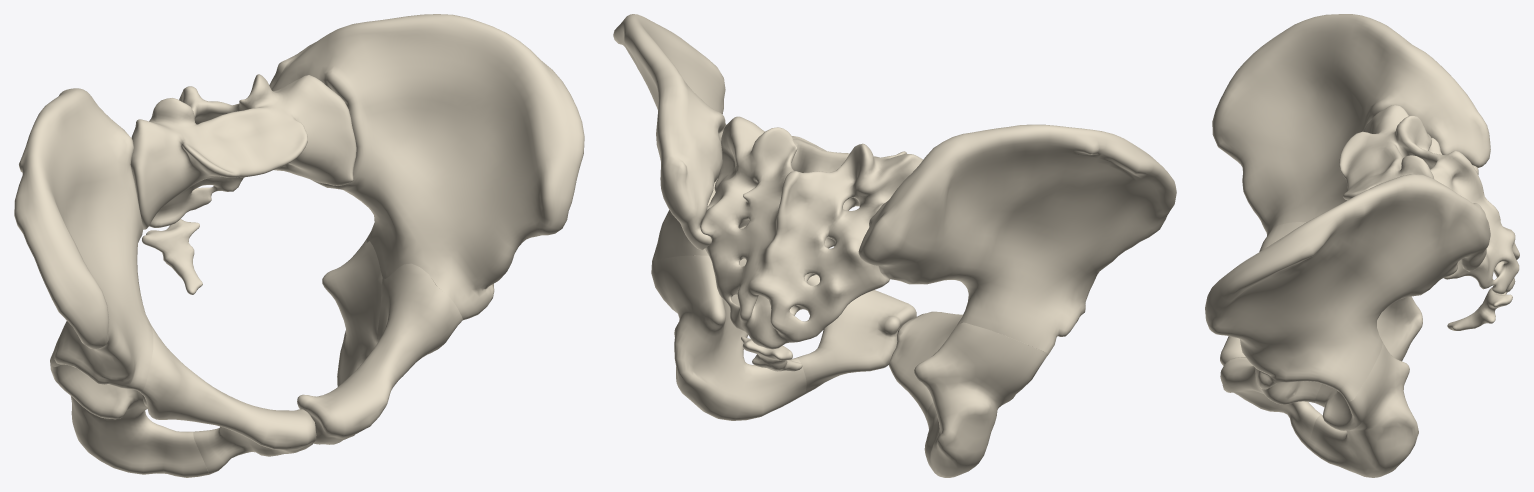
Rendered from pelvis.glb.
3 views of the same model, side by side, from view 1: azimuth 30°, elevation 25°; view 2: azimuth 150°, elevation 25°; view 3: azimuth 270°, elevation 25° (orthographic). The views are drawn at different scales.
Visible parts, largest first — view 1: VH_F_ilium_compact_bone_L, VH_F_ilium_compact_bone_R, VH_F_sacrum, VH_F_pubis_compact_bone_L, VH_F_pubis_compact_bone_R, VH_F_ischium_compact_bone_R, VH_F_ischium_compact_bone_L, VH_F_coccyx; view 2: VH_F_ilium_compact_bone_R, VH_F_sacrum, VH_F_ilium_compact_bone_L, VH_F_ischium_compact_bone_L, VH_F_ischium_compact_bone_R, VH_F_pubis_compact_bone_L, VH_F_pubis_compact_bone_R, VH_F_coccyx; view 3: VH_F_ilium_compact_bone_L, VH_F_ilium_compact_bone_R, VH_F_sacrum, VH_F_ischium_compact_bone_L, VH_F_pubis_compact_bone_L, VH_F_ischium_compact_bone_R, VH_F_coccyx, VH_F_pubis_compact_bone_R.
Part boxes in pixels (bbox=[...]): VH_F_ilium_compact_bone_L: bbox=[269, 14, 584, 320]; VH_F_ilium_compact_bone_R: bbox=[14, 88, 153, 392]; VH_F_sacrum: bbox=[130, 74, 356, 229]; VH_F_pubis_compact_bone_L: bbox=[297, 263, 462, 444]; VH_F_pubis_compact_bone_R: bbox=[140, 325, 316, 474]; VH_F_ischium_compact_bone_R: bbox=[50, 362, 209, 477]; VH_F_ischium_compact_bone_L: bbox=[322, 239, 382, 436]; VH_F_coccyx: bbox=[142, 219, 202, 294]; VH_F_ilium_compact_bone_R: bbox=[858, 124, 1176, 354]; VH_F_sacrum: bbox=[700, 116, 922, 349]; VH_F_ilium_compact_bone_L: bbox=[613, 14, 745, 260]; VH_F_ischium_compact_bone_L: bbox=[651, 255, 806, 420]; VH_F_ischium_compact_bone_R: bbox=[914, 322, 1048, 477]; VH_F_pubis_compact_bone_L: bbox=[740, 258, 916, 393]; VH_F_pubis_compact_bone_R: bbox=[889, 311, 962, 420]; VH_F_coccyx: bbox=[741, 336, 802, 371]; VH_F_ilium_compact_bone_L: bbox=[1205, 174, 1490, 401]; VH_F_ilium_compact_bone_R: bbox=[1212, 14, 1490, 235]; VH_F_sacrum: bbox=[1339, 105, 1519, 294]; VH_F_ischium_compact_bone_L: bbox=[1307, 341, 1418, 477]; VH_F_pubis_compact_bone_L: bbox=[1220, 357, 1322, 447]; VH_F_ischium_compact_bone_R: bbox=[1377, 296, 1422, 361]; VH_F_coccyx: bbox=[1447, 287, 1512, 330]; VH_F_pubis_compact_bone_R: bbox=[1220, 222, 1305, 365].
Bounding box in the file's own units: 2.8 × 1.87 × 1.61.
